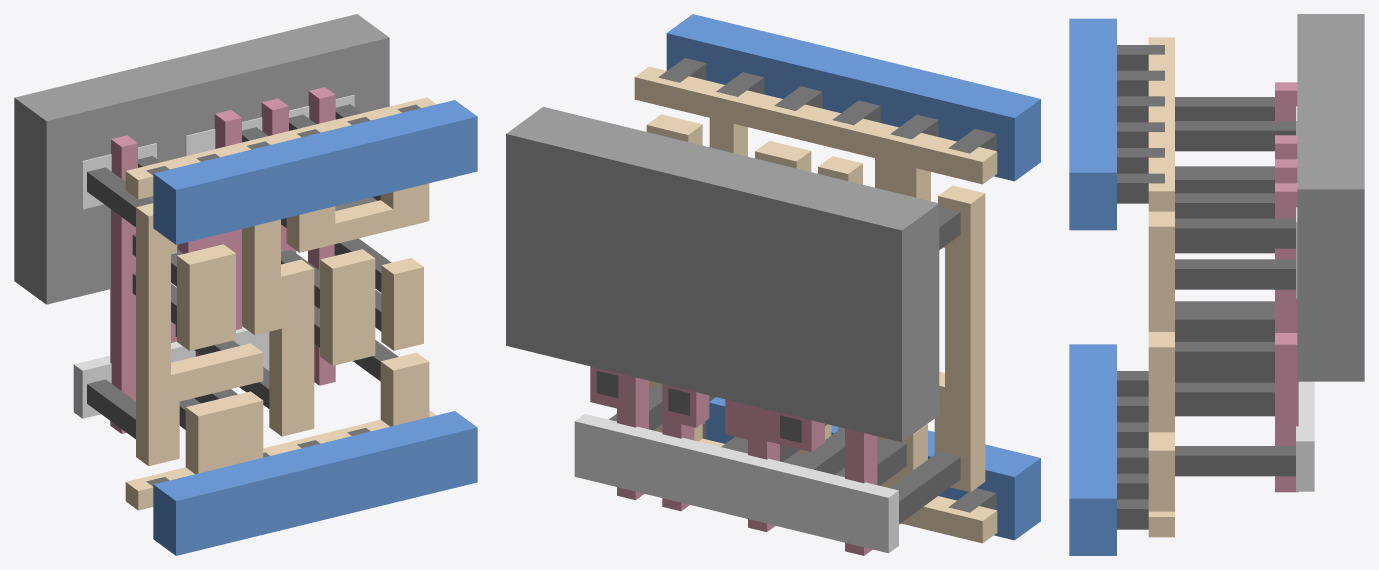
The model's file is sky130_fd_sc_hd__a21boi_0.gds.gltf.
The picture shows the model from 3 angles, left to right: view 1: azimuth 30°, elevation 25°; view 2: azimuth 150°, elevation 25°; view 3: azimuth 270°, elevation 25°; orthographic projection. The views are drawn at different scales.
Visible parts, largest first — view 1: sky130_fd_sc_hd__a21boi_0_li1, sky130_fd_sc_hd__a21boi_0_met1, sky130_fd_sc_hd__a21boi_0_nwell, sky130_fd_sc_hd__a21boi_0_poly, sky130_fd_sc_hd__a21boi_0_licon, sky130_fd_sc_hd__a21boi_0_diff, sky130_fd_sc_hd__a21boi_0_mcon; view 2: sky130_fd_sc_hd__a21boi_0_nwell, sky130_fd_sc_hd__a21boi_0_li1, sky130_fd_sc_hd__a21boi_0_met1, sky130_fd_sc_hd__a21boi_0_diff, sky130_fd_sc_hd__a21boi_0_poly, sky130_fd_sc_hd__a21boi_0_licon, sky130_fd_sc_hd__a21boi_0_mcon; view 3: sky130_fd_sc_hd__a21boi_0_licon, sky130_fd_sc_hd__a21boi_0_nwell, sky130_fd_sc_hd__a21boi_0_met1, sky130_fd_sc_hd__a21boi_0_li1, sky130_fd_sc_hd__a21boi_0_mcon, sky130_fd_sc_hd__a21boi_0_poly, sky130_fd_sc_hd__a21boi_0_diff.
Part boxes in pixels (x1,y1,x2,y2): sky130_fd_sc_hd__a21boi_0_li1: [125, 97, 436, 510]; sky130_fd_sc_hd__a21boi_0_met1: [153, 100, 477, 555]; sky130_fd_sc_hd__a21boi_0_nwell: [14, 14, 389, 304]; sky130_fd_sc_hd__a21boi_0_poly: [110, 87, 335, 433]; sky130_fd_sc_hd__a21boi_0_licon: [87, 104, 398, 439]; sky130_fd_sc_hd__a21boi_0_diff: [73, 95, 354, 418]; sky130_fd_sc_hd__a21boi_0_mcon: [146, 104, 420, 486]; sky130_fd_sc_hd__a21boi_0_nwell: [506, 106, 939, 442]; sky130_fd_sc_hd__a21boi_0_li1: [634, 66, 997, 543]; sky130_fd_sc_hd__a21boi_0_met1: [666, 14, 1040, 540]; sky130_fd_sc_hd__a21boi_0_diff: [574, 414, 898, 553]; sky130_fd_sc_hd__a21boi_0_poly: [590, 366, 877, 555]; sky130_fd_sc_hd__a21boi_0_licon: [596, 134, 960, 524]; sky130_fd_sc_hd__a21boi_0_mcon: [658, 58, 996, 512]; sky130_fd_sc_hd__a21boi_0_licon: [1175, 97, 1295, 476]; sky130_fd_sc_hd__a21boi_0_nwell: [1297, 14, 1364, 381]; sky130_fd_sc_hd__a21boi_0_met1: [1069, 18, 1116, 555]; sky130_fd_sc_hd__a21boi_0_li1: [1148, 37, 1174, 537]; sky130_fd_sc_hd__a21boi_0_mcon: [1117, 45, 1164, 529]; sky130_fd_sc_hd__a21boi_0_poly: [1275, 82, 1298, 492]; sky130_fd_sc_hd__a21boi_0_diff: [1296, 106, 1314, 491].
Bounding box in the file's own units: 3.14 × 3.2 × 2.24.
